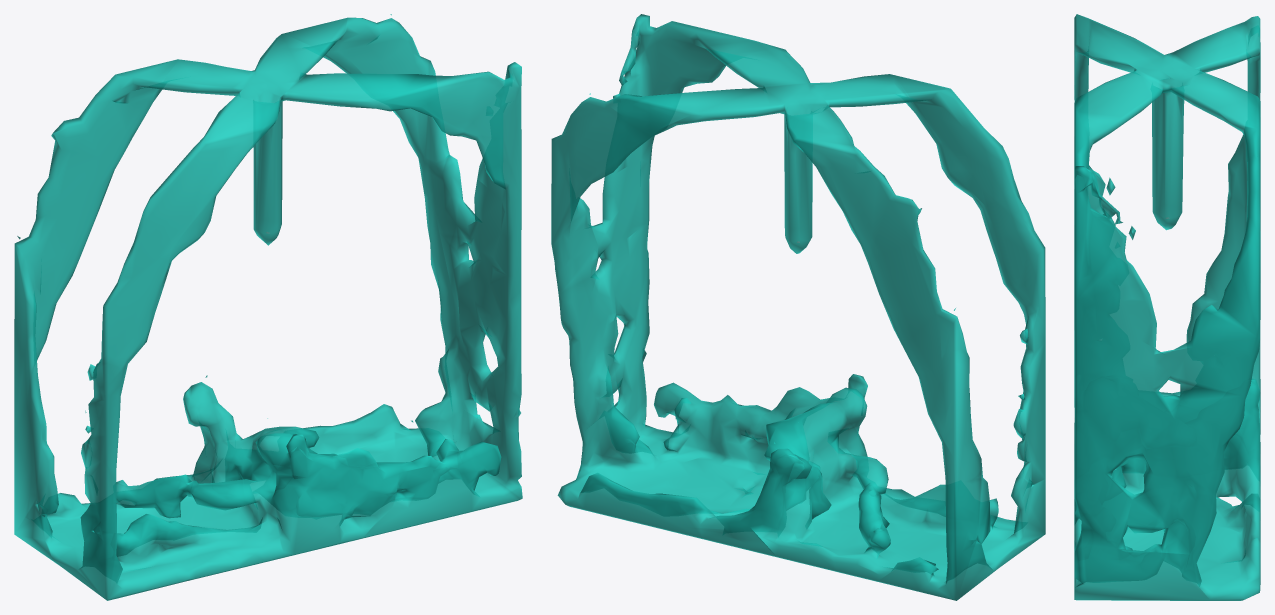
3 views of the same model, side by side, from view 1: azimuth 30°, elevation 25°; view 2: azimuth 150°, elevation 25°; view 3: azimuth 270°, elevation 25° (orthographic). The views are drawn at different scales.
Visible parts, largest first — view 1: Liquid_Domain; view 2: Liquid_Domain; view 3: Liquid_Domain.
Part boxes in pixels (x1,y1,x2,y2): Liquid_Domain: [14, 14, 522, 600]; Liquid_Domain: [551, 14, 1045, 600]; Liquid_Domain: [1074, 14, 1260, 600].
Bounding box in the file's own units: 885 × 884 × 345.
